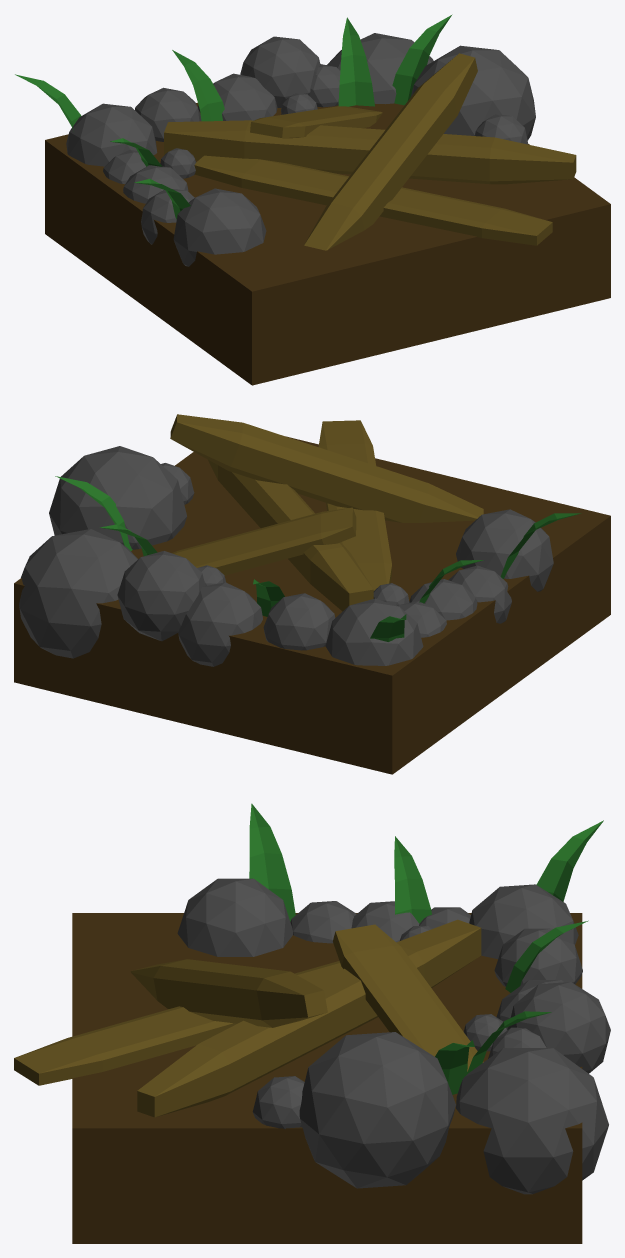
The model's file is GardenBed_cleaned.fbx.
The picture shows the model from 3 angles, top to bottom: view 1: azimuth 30°, elevation 25°; view 2: azimuth 150°, elevation 25°; view 3: azimuth 270°, elevation 25°; orthographic projection. The views are drawn at different scales.
Visible parts, largest first — view 1: Cube, Cube.001, Cube.003, Cube.002, Icosphere.012, Icosphere.004, Icosphere.009, Icosphere.010, Cube.004, Icosphere.001, Icosphere.003, Plane.006 (+12 smaller); view 2: Cube, Cube.003, Icosphere.001, Icosphere.012, Cube.001, Cube.004, Icosphere.010, Icosphere.004, Icosphere.003, Icosphere.009, Cube.002, Icosphere.005 (+9 smaller); view 3: Cube, Icosphere.012, Icosphere.001, Cube.001, Cube.003, Cube.002, Cube.004, Icosphere.004, Icosphere.010, Icosphere.009, Icosphere.005, Plane.025 (+12 smaller).
Part boxes in pixels (x1,y1,x2,y2): Cube: (45,102,610,385); Cube.001: (164,120,576,184); Cube.003: (304,53,477,250); Cube.002: (194,155,552,245); Icosphere.012: (410,45,535,140); Icosphere.004: (173,188,266,266); Icosphere.009: (66,103,157,166); Icosphere.010: (240,36,320,107); Cube.004: (250,106,382,138); Icosphere.001: (327,33,433,104); Icosphere.003: (198,73,277,120); Plane.006: (338,17,374,106); Cube: (14,436,610,774); Cube.003: (170,414,483,522); Icosphere.001: (19,529,137,658); Icosphere.012: (49,446,186,549); Cube.001: (208,460,373,611); Cube.004: (172,507,356,575); Icosphere.010: (117,551,205,641); Icosphere.004: (456,509,553,591); Icosphere.003: (178,582,262,666); Icosphere.009: (325,598,423,665); Cube.002: (318,420,391,590); Icosphere.005: (263,593,335,650); Cube: (72,913,582,1243); Icosphere.012: (299,1032,455,1188); Icosphere.001: (456,1048,608,1194); Cube.001: (137,919,481,1117); Cube.003: (130,959,327,1027); Cube.002: (14,961,342,1085); Cube.004: (333,924,483,1071); Icosphere.004: (177,878,292,956); Icosphere.010: (507,982,610,1073); Icosphere.009: (469,884,578,958); Icosphere.005: (494,928,582,986); Plane.025: (249,803,295,921).
Size of the model in its own units: 994 by 388 by 936.
